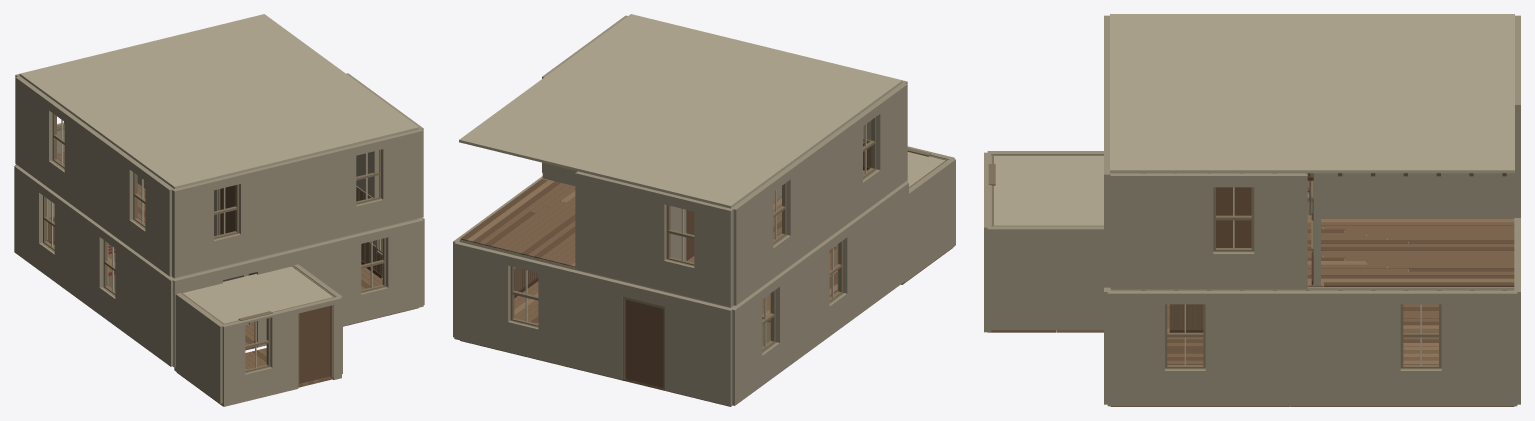
Rendered from hargrove_common_1890.glb.
3 views of the same model, side by side, from view 1: azimuth 30°, elevation 25°; view 2: azimuth 150°, elevation 25°; view 3: azimuth 270°, elevation 25° (orthographic). The views are drawn at different scales.
Visible parts, largest first — view 1: hargrove_common_1890; view 2: hargrove_common_1890; view 3: hargrove_common_1890.
Boxes of the visible parts, <box> form: hargrove_common_1890: <box>14,14,424,406</box>; hargrove_common_1890: <box>453,14,955,406</box>; hargrove_common_1890: <box>984,14,1520,406</box>.
Bounding box in the file's own units: 8.05 × 5.62 × 11.27.
